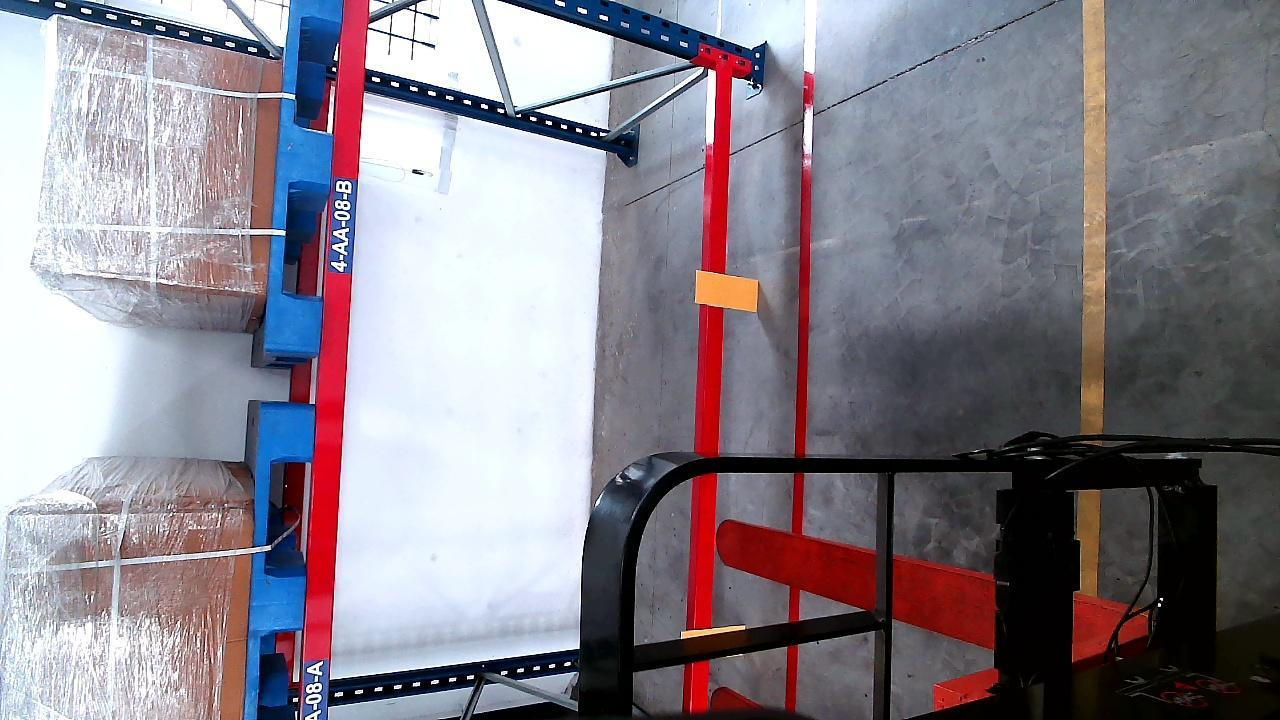red_line: (796, 0, 815, 453)
yellow_line: (1081, 0, 1106, 433)
